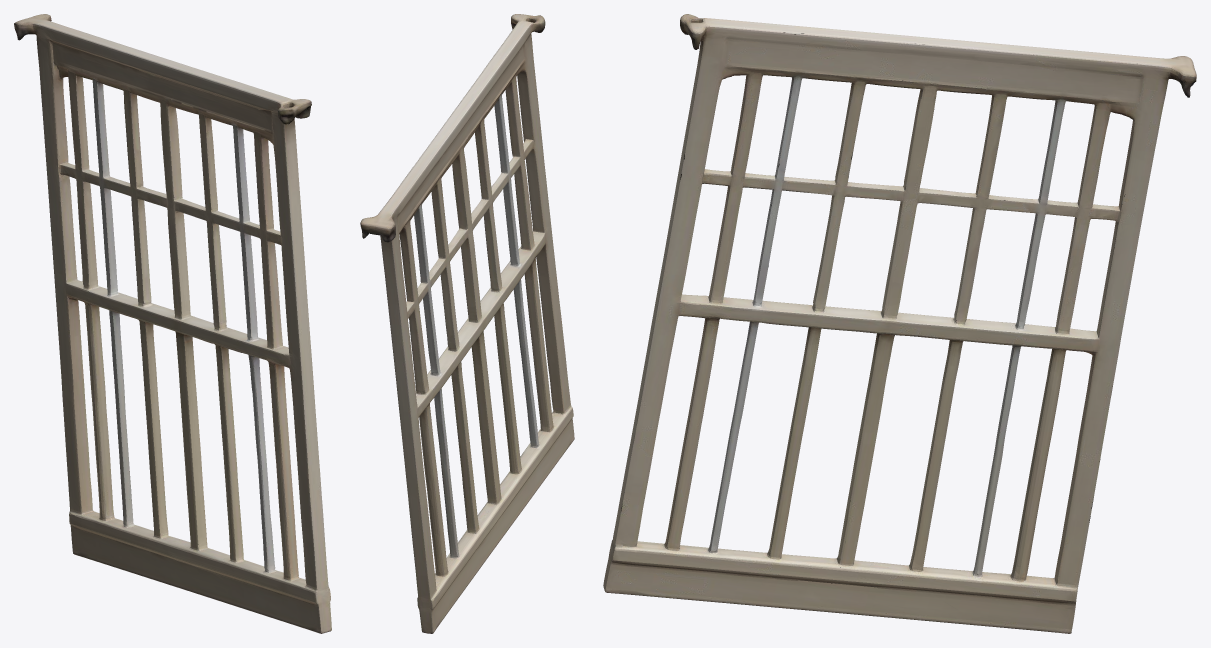
Rendered from window_on_right_000.glb.
3 renders of one model, left to right at view 1: azimuth 30°, elevation 25°; view 2: azimuth 150°, elevation 25°; view 3: azimuth 270°, elevation 25°, orthographic. The views are drawn at different scales.
Visible parts, largest first — view 1: window_on_right_000.obj; view 2: window_on_right_000.obj; view 3: window_on_right_000.obj.
Part boxes in pixels (bbox=[...]): window_on_right_000.obj: bbox=[14, 14, 331, 633]; window_on_right_000.obj: bbox=[360, 14, 574, 633]; window_on_right_000.obj: bbox=[603, 14, 1196, 633].
Bounding box in the file's own units: 0.15 × 0.9757 × 0.8216.
Materials: 1 (1 with a texture image).
